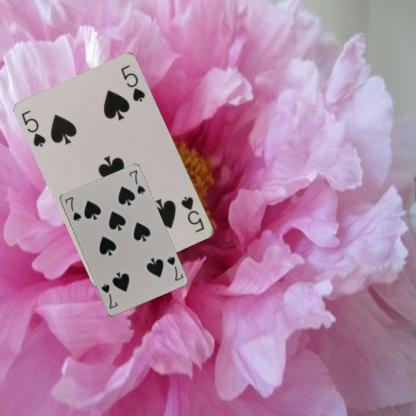5s: (19, 108, 47, 148), (179, 194, 206, 234)
7s: (62, 194, 82, 223), (164, 254, 184, 283)
